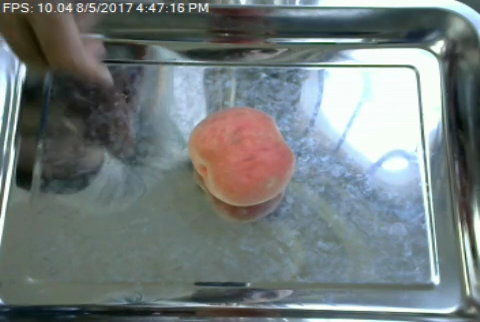Peach: (189, 106, 294, 206)
